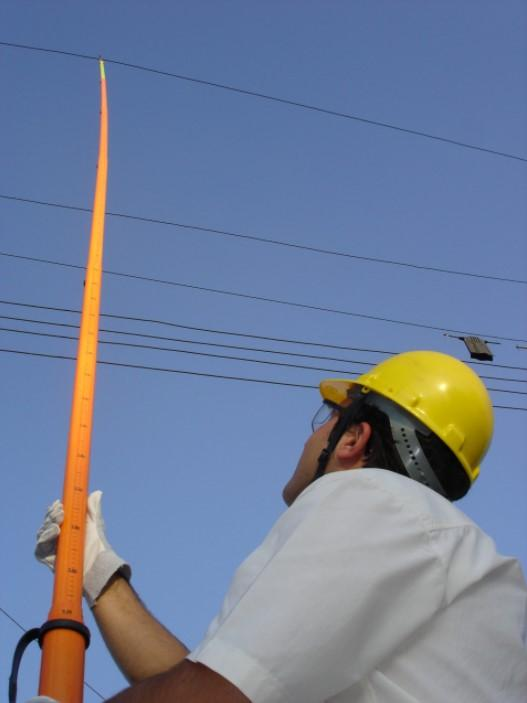Vara_Manobra: (39, 59, 110, 703)
